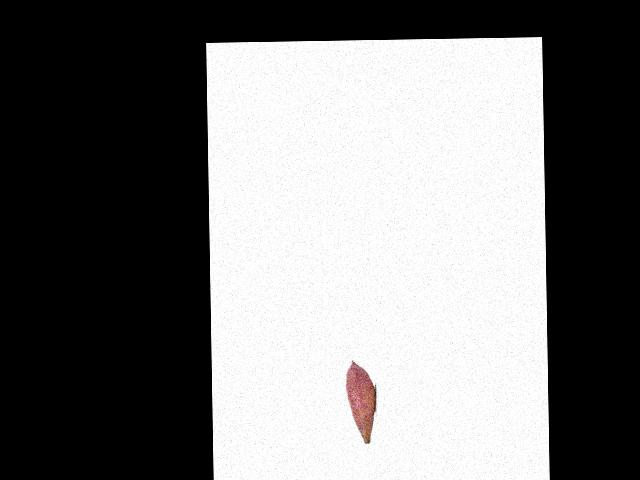sweet_potato: (345, 359, 374, 444)
